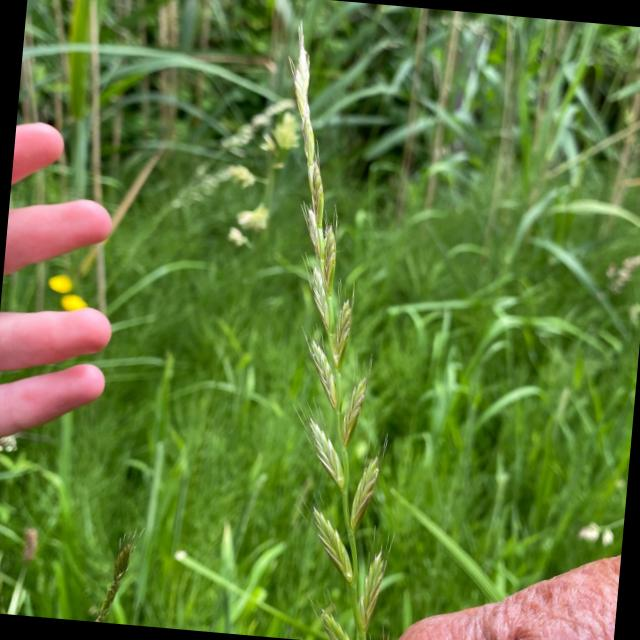Lolium: (231, 16, 444, 640)
